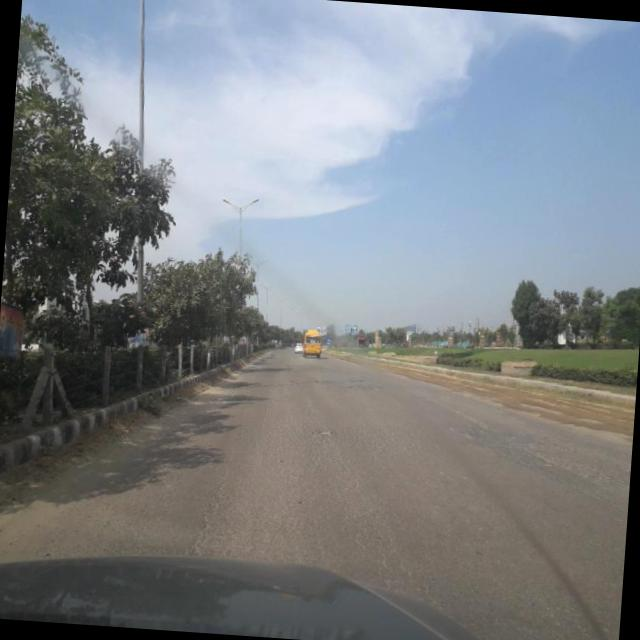crack: (194, 392, 437, 583), (180, 425, 237, 555)
pothole: (441, 405, 628, 506), (312, 417, 340, 444)
